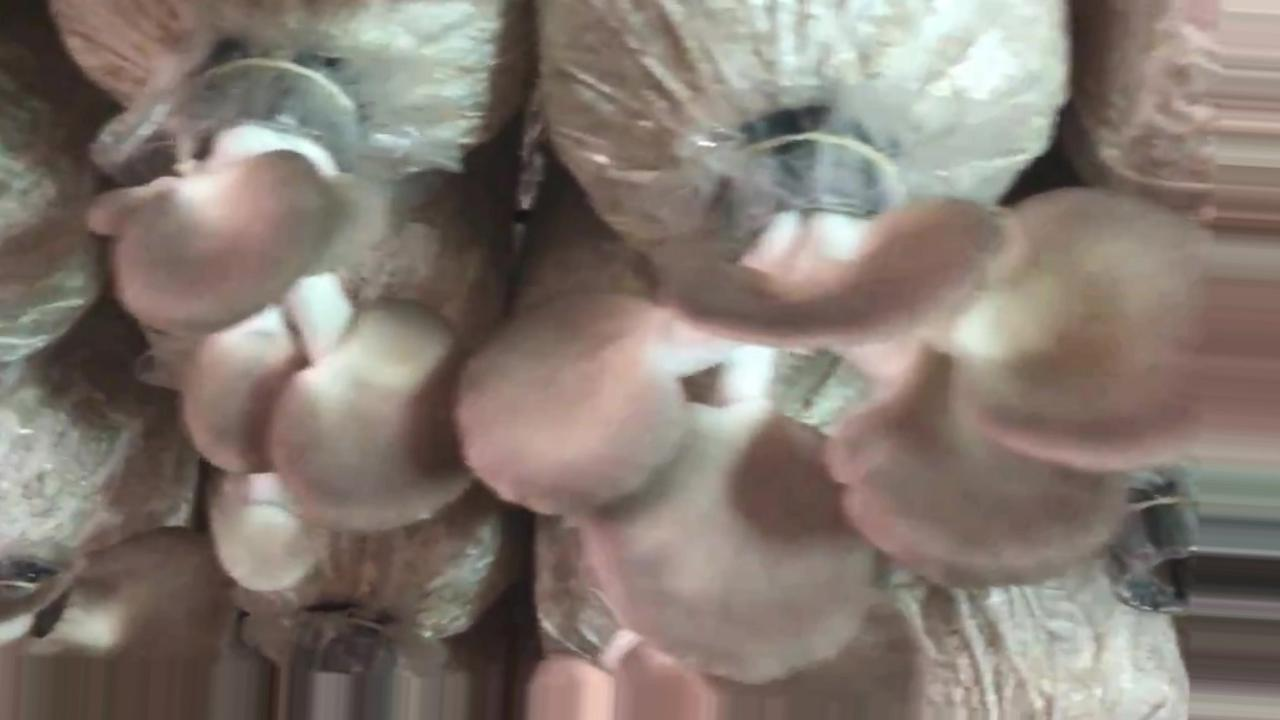nam: (457, 145, 1280, 680), (167, 70, 480, 591), (1, 524, 253, 719)
